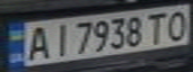3: (109, 15, 130, 49)
7: (72, 18, 93, 55)
8: (124, 12, 148, 47)
9: (90, 17, 112, 53)
A: (21, 22, 54, 61)
I: (48, 20, 72, 57)
O: (163, 7, 193, 42)
T: (142, 10, 172, 44)
